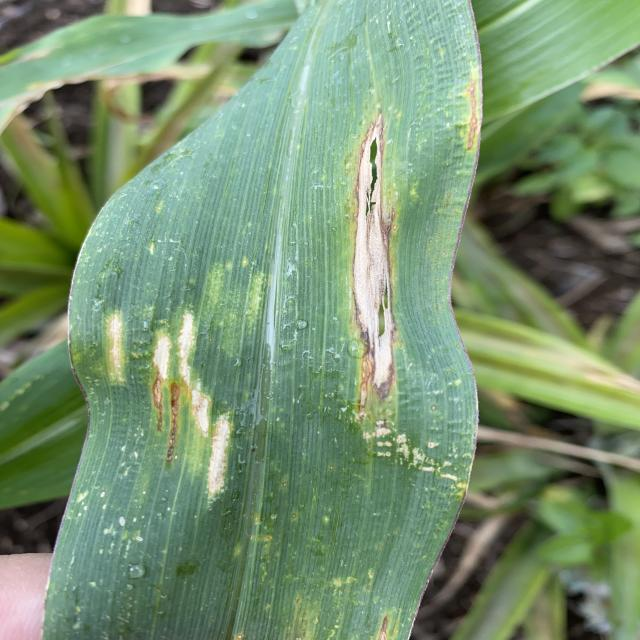Corn_Leaf_Blight: (60, 0, 493, 640)
